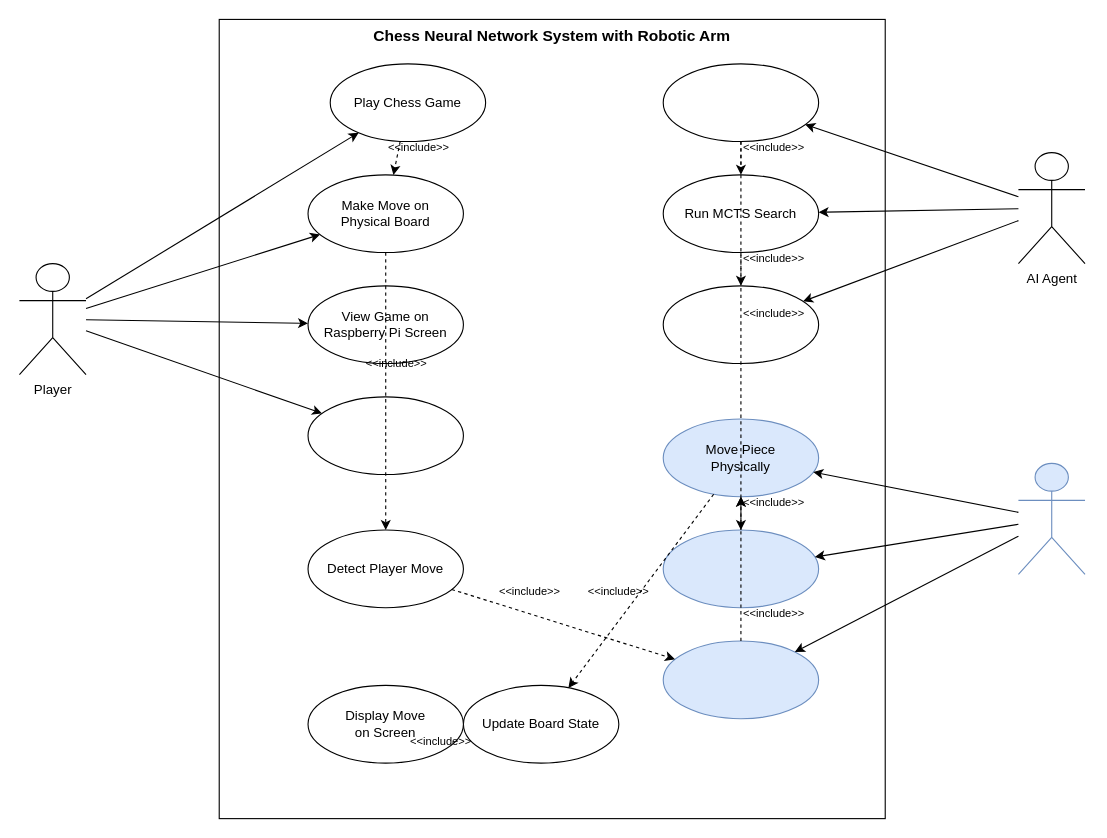
Image size: 1107x838. Some labels were removed from this diagram. Each missing label, with the box of its shape:
Calculate Best Move: (662, 63, 819, 142)
Evaluate Position with Neural Network: (662, 285, 819, 364)
Execute AI Move: (662, 529, 819, 608)
Execute Player Move: (662, 640, 819, 719)
Robotic Arm: (1017, 462, 1085, 574)
Start New Game: (307, 396, 463, 475)
